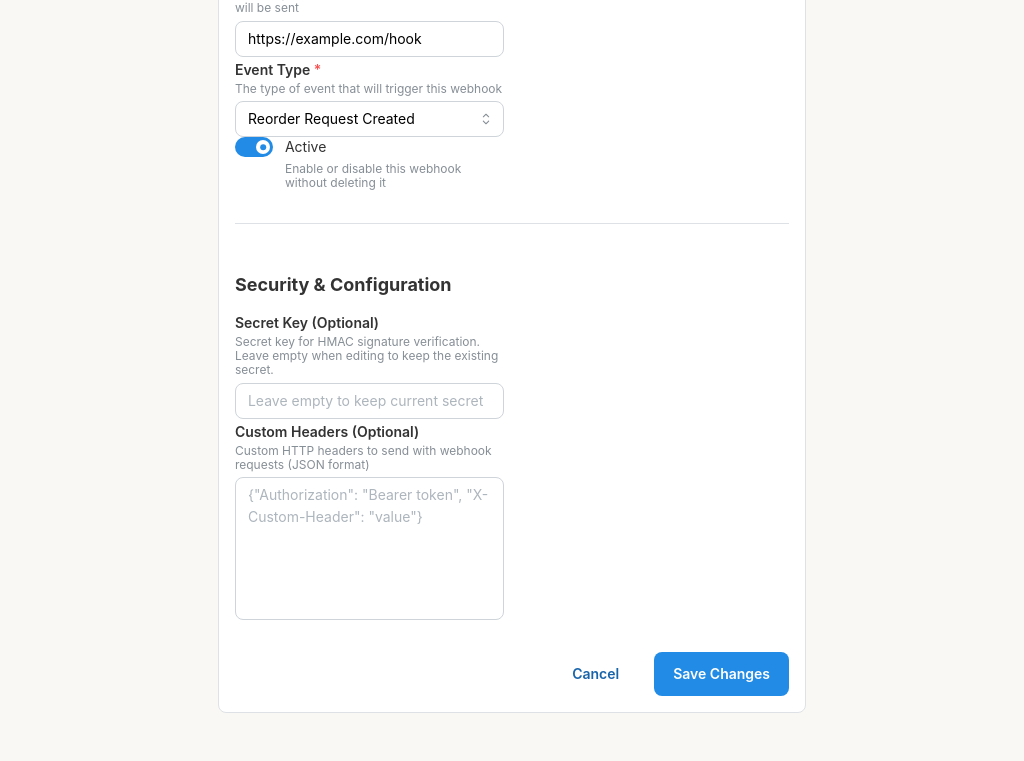
Test: WebhookFormPage › surfaces an error and stays on the form when saving fails
(page scrolled)
The form is pre-filled from the loaded webhook, so it is already valid.
Click the button "Save Changes".
click(722, 674)  # box x1=654 y1=652 x2=789 y2=696
(page scrolled)
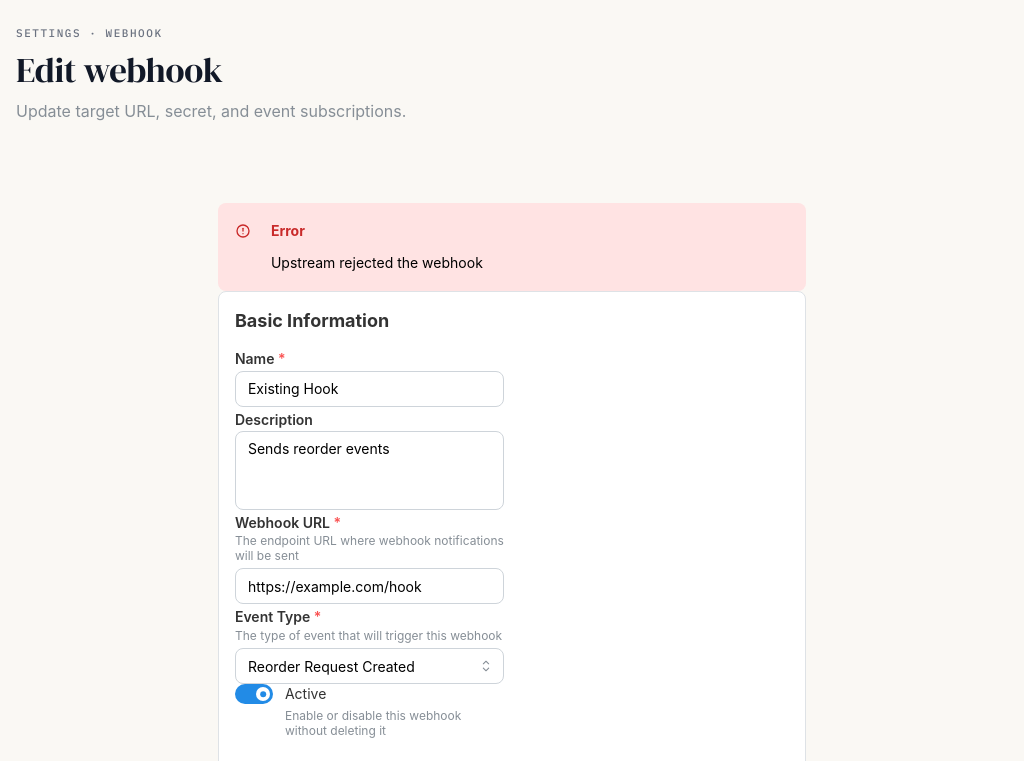
Check: the text "Upstream rejected the webhook" is shown, box x1=271 y1=254 x2=483 y2=271
